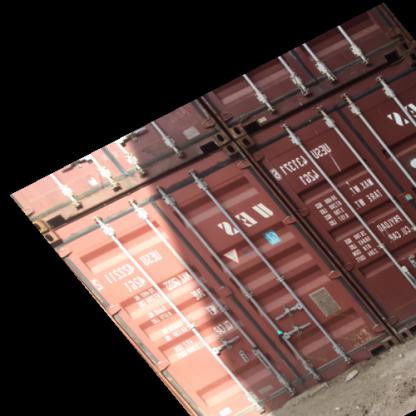Damage: (309, 278, 369, 367)
